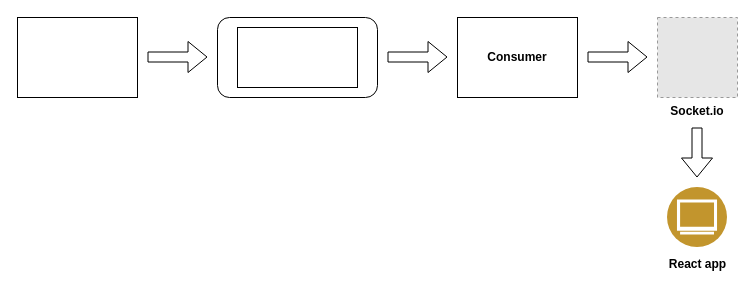
The diagram is 755 pixels wide and 289 high, and some of its shapes have lost their labels. Grey dashed boxes stand in for pictures. Here are the shapes that lost their labels. From the top down, the centre of each, then its label:
(77,57): API & Kafka Producer
(297,57): Kafka topic
